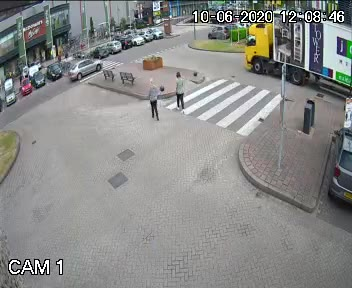car: (233, 2, 352, 98), (67, 56, 109, 75)
